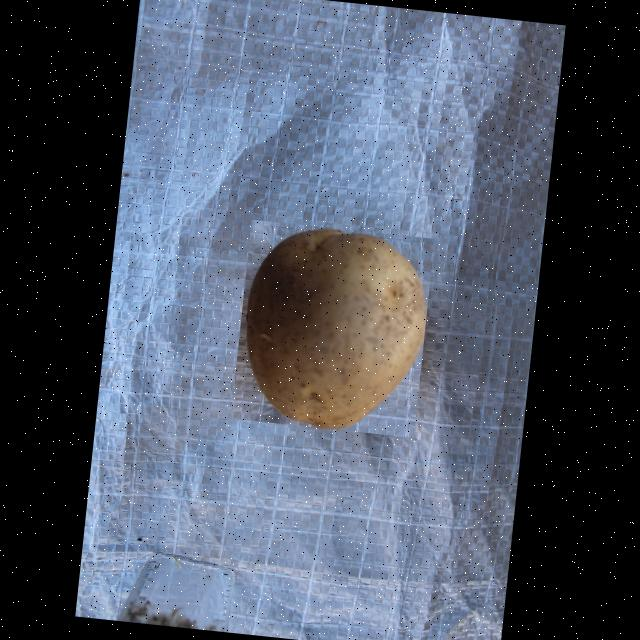Diseased-fungal potato: (230, 218, 434, 436)
